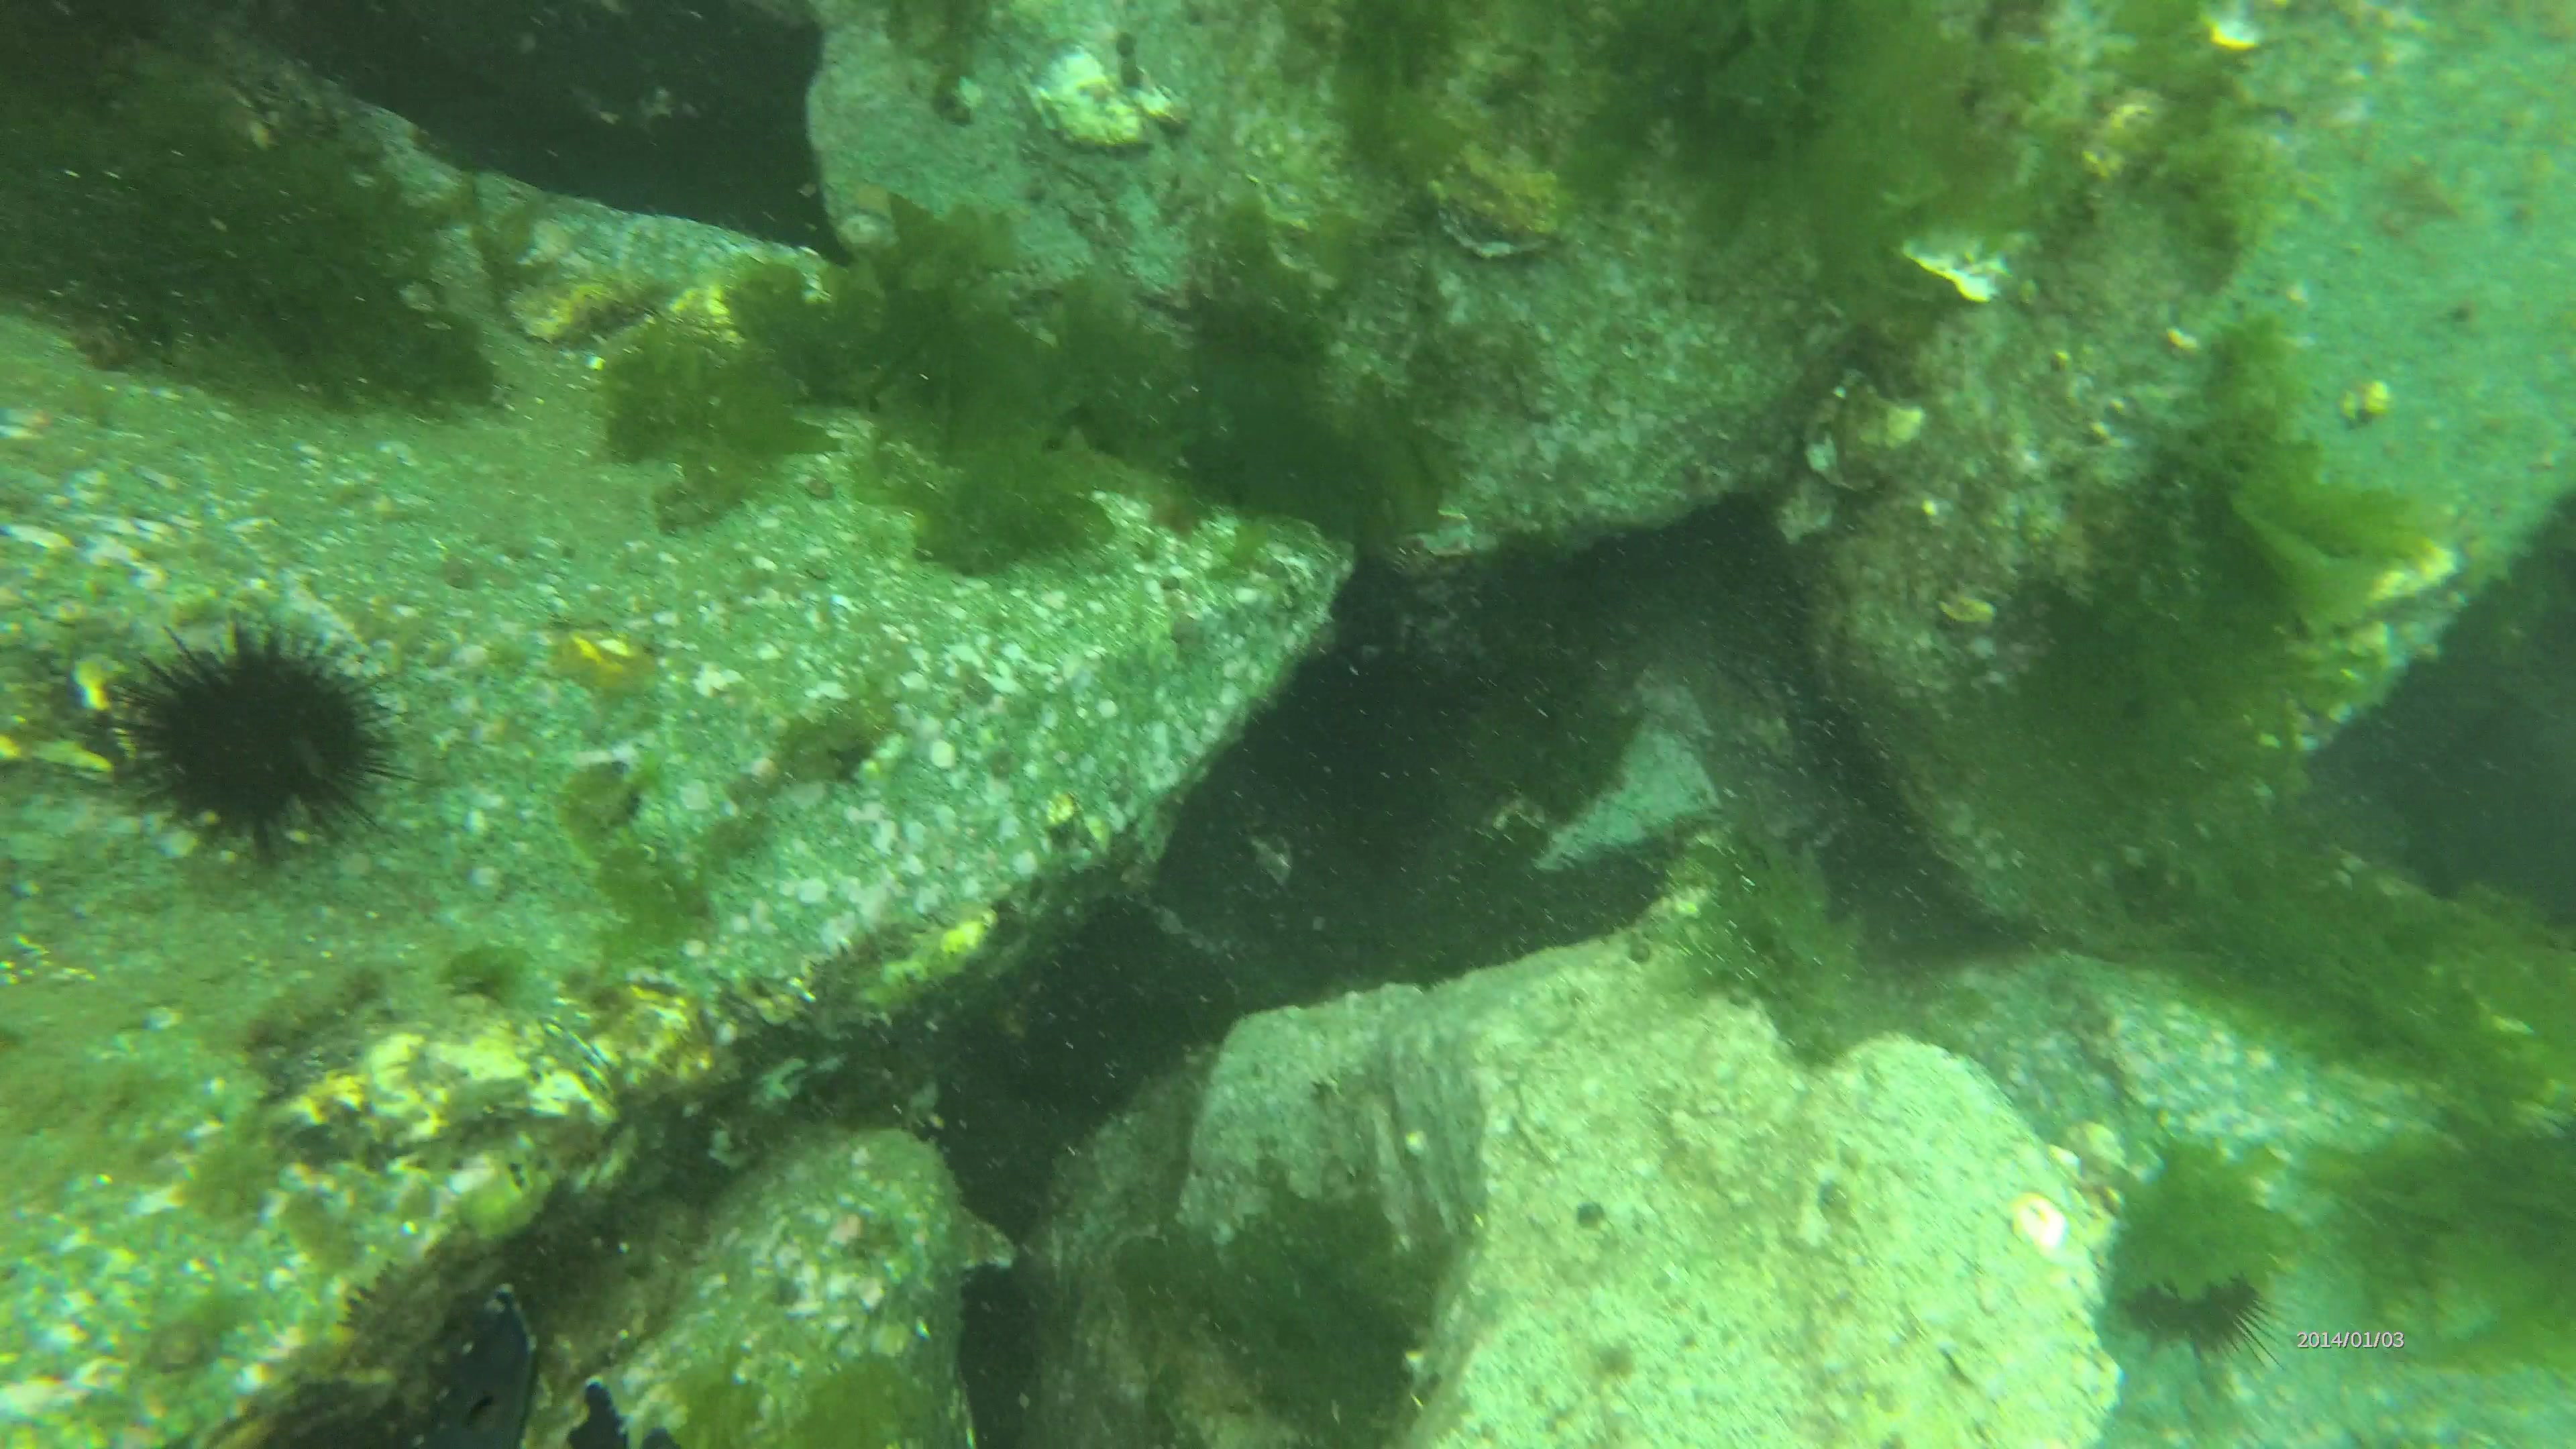echinus: (53, 577, 455, 885), (2084, 1191, 2307, 1391)
